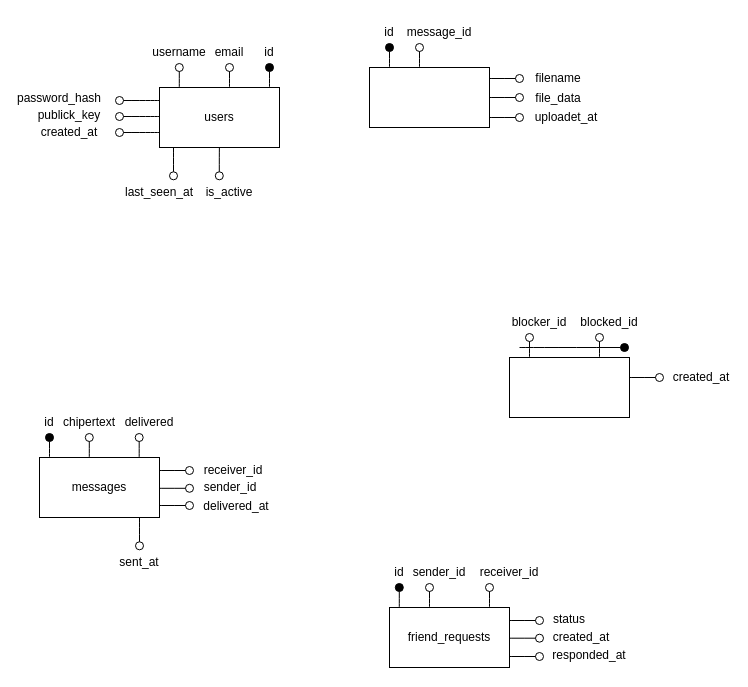
Image size: 748x687. Some labels were removed from this diagram. Here are the shapes that lost their labels. From the top down, the box of each, then its label:
(368, 66, 490, 128): files
(508, 356, 630, 418): blocked_users
